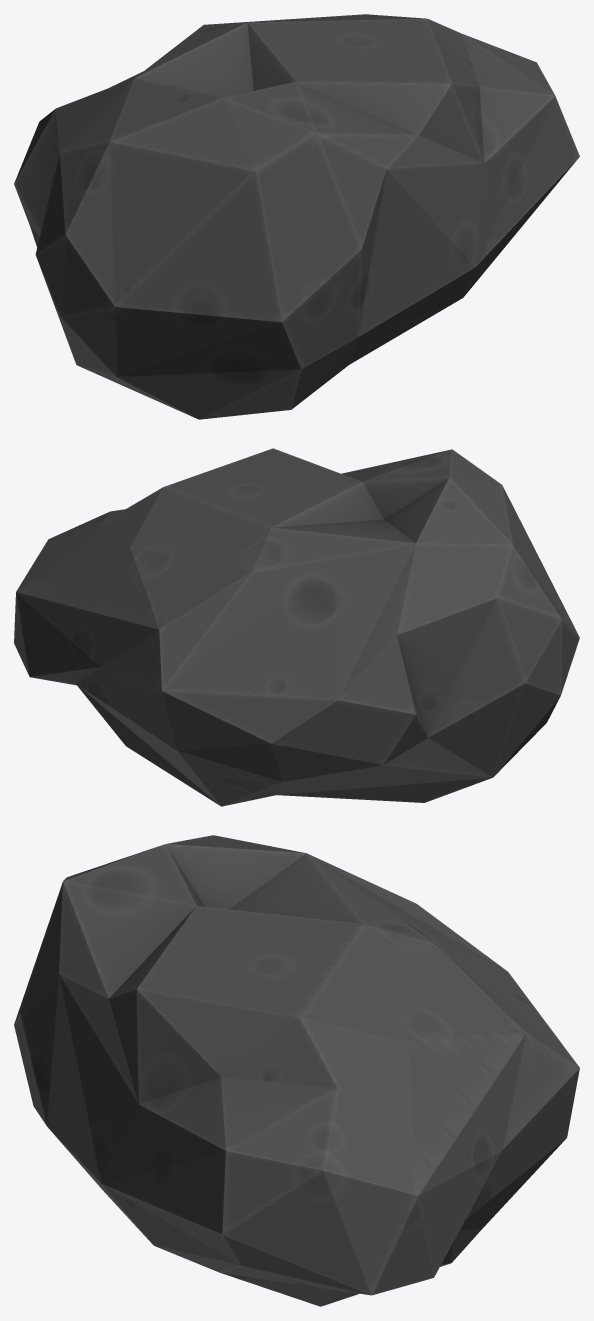
The model's file is asteroid1.glb.
3 views of the same model, one above another, from view 1: azimuth 30°, elevation 25°; view 2: azimuth 150°, elevation 25°; view 3: azimuth 270°, elevation 25° (orthographic). The views are drawn at different scales.
Parts seen in each view (by area): view 1: Asteroids_Mesh.001; view 2: Asteroids_Mesh.001; view 3: Asteroids_Mesh.001.
Boxes of the visible parts, x1,y1,x2,y2 form: Asteroids_Mesh.001: [14, 14, 579, 419]; Asteroids_Mesh.001: [14, 448, 579, 806]; Asteroids_Mesh.001: [14, 835, 579, 1306].
Bounding box in the file's own units: 5.19 × 3.18 × 4.26.
1 material, 1 textured.
